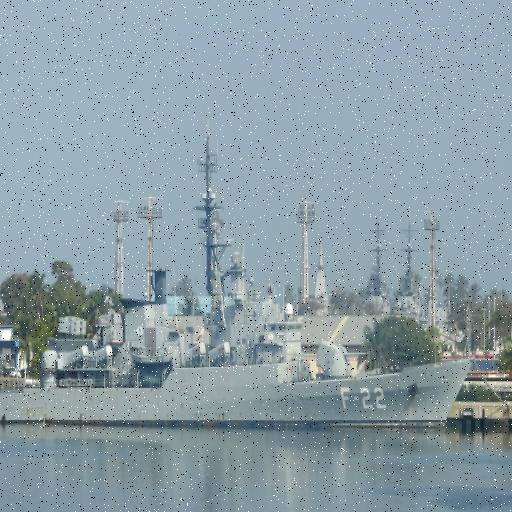Fragata: (1, 238, 474, 436)
